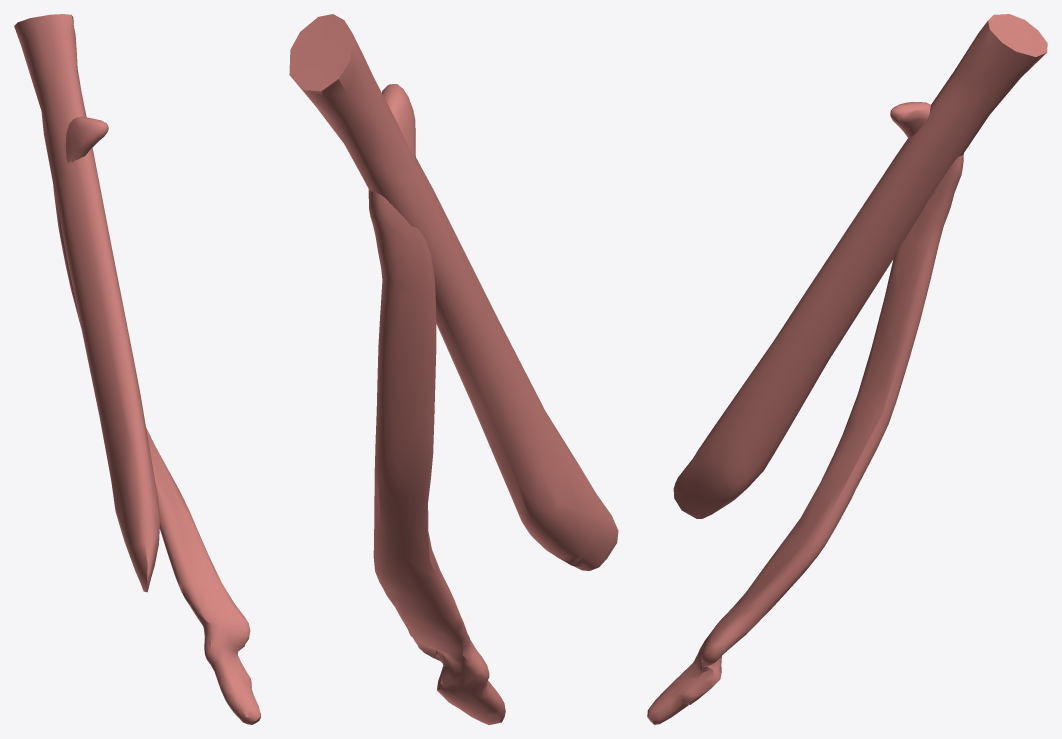
File: fma39581_mm1959.glb
3 views of the same model, side by side, from view 1: azimuth 30°, elevation 25°; view 2: azimuth 150°, elevation 25°; view 3: azimuth 270°, elevation 25° (orthographic). The views are drawn at different scales.
Visible parts, largest first — view 1: FMA39581_MM1959; view 2: FMA39581_MM1959; view 3: FMA39581_MM1959.
Boxes of the visible parts, box(x1,y1,x2,y2) form: FMA39581_MM1959: box(14, 14, 260, 724); FMA39581_MM1959: box(289, 14, 618, 724); FMA39581_MM1959: box(647, 14, 1047, 724).
Size of the model in its own units: 0.00883 by 0.0428 by 0.0228.
